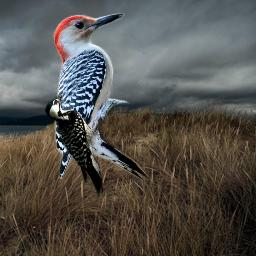Woodpecker: (45, 6, 158, 194), (44, 91, 103, 200)
